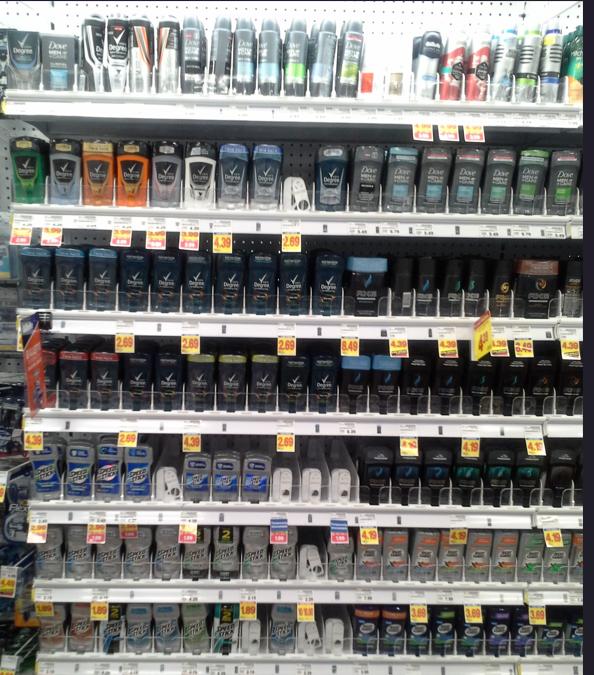Out-of-stock: (282, 122, 314, 214)
